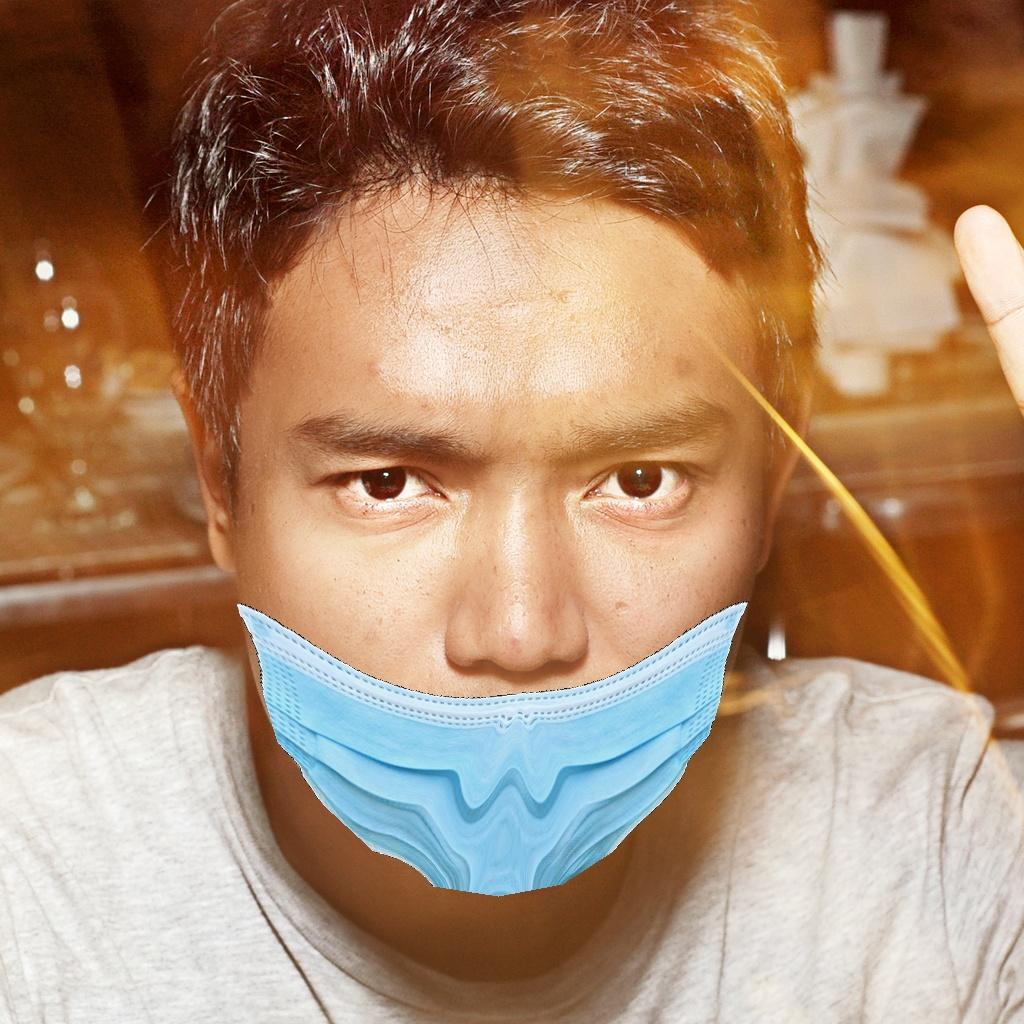Máscara Incorreta: (222, 330, 769, 877)
